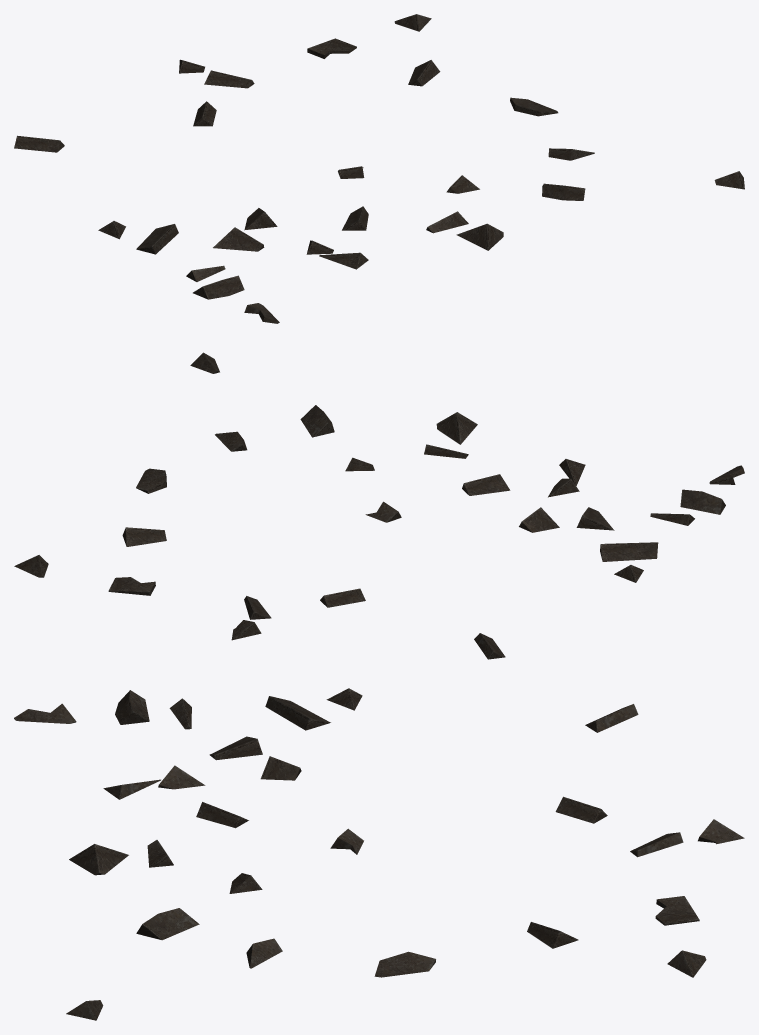
Rendered from debris_bricks_mx_1.glb.
The picture shows the model from 3 angles, top to bottom: view 1: azimuth 30°, elevation 25°; view 2: azimuth 150°, elevation 25°; view 3: azimuth 270°, elevation 25°; orthographic projection. The views are drawn at different scales.
Parts seen in each view (by area): view 1: debris_bricks_mx_1; view 2: debris_bricks_mx_1; view 3: debris_bricks_mx_1.
Boxes of the visible parts, x1,y1,x2,y2 form: debris_bricks_mx_1: (14, 14, 744, 323); debris_bricks_mx_1: (14, 352, 744, 659); debris_bricks_mx_1: (14, 688, 744, 1020).
Size of the model in its own units: 2.11 by 0.0652 by 2.
1 material, 1 textured.
